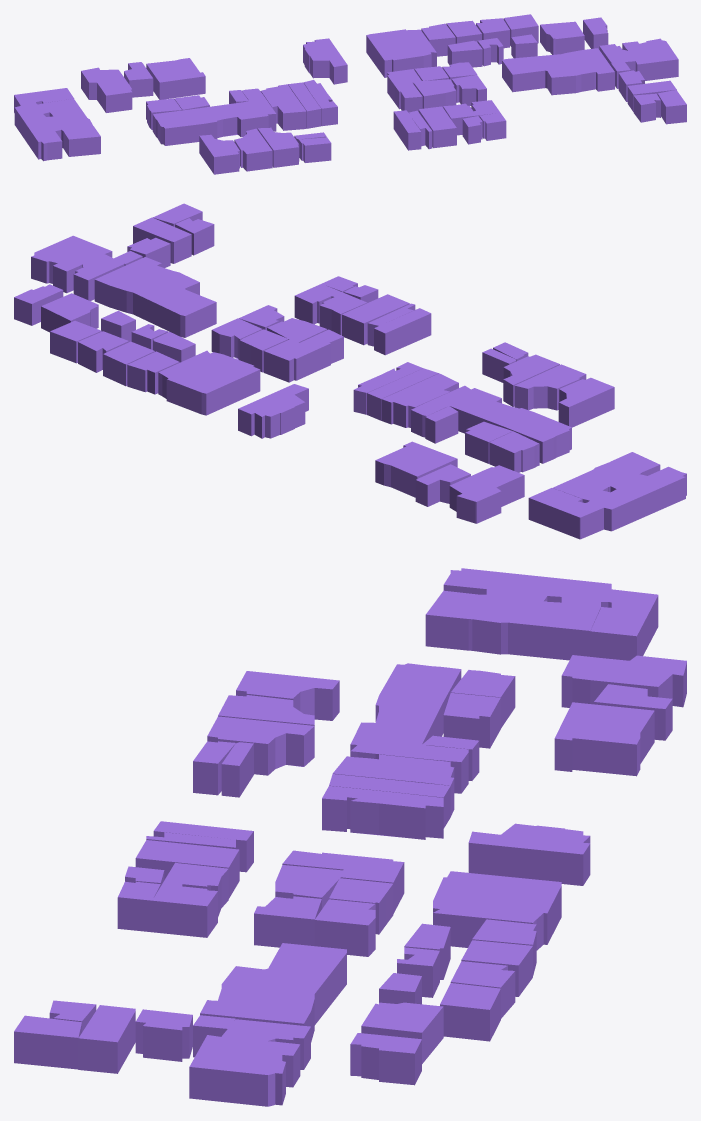
Rendered from Rooms_F1.glb.
3 renders of one model, top to bottom at view 1: azimuth 30°, elevation 25°; view 2: azimuth 150°, elevation 25°; view 3: azimuth 270°, elevation 25°, orthographic. The views are drawn at different scales.
Parts seen in each view (by area): view 1: IfcSpace25, IfcSpace__, IfcSpace37, IfcSpace10, IfcSpace24, IfcSpace46, IfcSpace48, IfcSpace09, IfcSpace18, IfcSpace06, IfcSpace36, IfcSpace19 (+32 smaller); view 2: IfcSpace25, IfcSpace__, IfcSpace37, IfcSpace24, IfcSpace48, IfcSpace10, IfcSpace18, IfcSpace01, IfcSpace46, IfcSpace19, IfcSpace06, IfcSpace21 (+32 smaller); view 3: IfcSpace__, IfcSpace24, IfcSpace25, IfcSpace37, IfcSpace46, IfcSpace18, IfcSpace10, IfcSpace15, IfcSpace48, IfcSpace21, IfcSpace01, IfcSpace04 (+36 smaller).
Boxes of the visible parts, x1=… form: IfcSpace25: x1=502, y1=48, x2=614, y2=95; IfcSpace__: x1=14, y1=98, x2=100, y2=161; IfcSpace37: x1=366, y1=29, x2=436, y2=77; IfcSpace10: x1=195, y1=88, x2=276, y2=139; IfcSpace24: x1=599, y1=38, x2=678, y2=80; IfcSpace46: x1=146, y1=58, x2=205, y2=99; IfcSpace48: x1=81, y1=67, x2=132, y2=112; IfcSpace09: x1=152, y1=109, x2=204, y2=145; IfcSpace18: x1=303, y1=38, x2=347, y2=84; IfcSpace06: x1=199, y1=134, x2=239, y2=174; IfcSpace36: x1=540, y1=21, x2=584, y2=54; IfcSpace19: x1=393, y1=110, x2=432, y2=150; IfcSpace25: x1=94, y1=257, x2=216, y2=337; IfcSpace__: x1=553, y1=452, x2=686, y2=531; IfcSpace37: x1=158, y1=350, x2=260, y2=415; IfcSpace24: x1=31, y1=235, x2=124, y2=300; IfcSpace48: x1=449, y1=465, x2=524, y2=523; IfcSpace10: x1=411, y1=385, x2=533, y2=437; IfcSpace18: x1=238, y1=384, x2=308, y2=438; IfcSpace01: x1=528, y1=488, x2=603, y2=539; IfcSpace46: x1=375, y1=441, x2=457, y2=497; IfcSpace19: x1=367, y1=303, x2=431, y2=355; IfcSpace06: x1=558, y1=377, x2=614, y2=427; IfcSpace21: x1=294, y1=284, x2=367, y2=335; IfcSpace__: x1=425, y1=568, x2=611, y2=660; IfcSpace24: x1=189, y1=1019, x2=310, y2=1106; IfcSpace25: x1=200, y1=943, x2=346, y2=1042; IfcSpace37: x1=433, y1=871, x2=561, y2=950; IfcSpace46: x1=554, y1=702, x2=654, y2=776; IfcSpace18: x1=468, y1=823, x2=590, y2=885; IfcSpace10: x1=350, y1=695, x2=468, y2=793; IfcSpace15: x1=322, y1=786, x2=443, y2=839; IfcSpace48: x1=561, y1=655, x2=686, y2=707; IfcSpace21: x1=153, y1=863, x2=228, y2=937; IfcSpace01: x1=590, y1=589, x2=658, y2=660; IfcSpace04: x1=207, y1=716, x2=314, y2=775.
Bounding box in the file's own units: 83.78 × 2.44 × 47.
